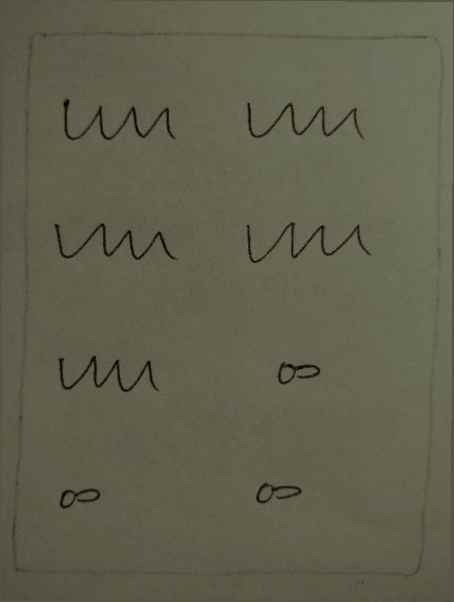switch: (263, 345, 333, 398), (247, 467, 308, 512), (48, 477, 110, 518)
text: (238, 207, 381, 277), (52, 86, 192, 157), (44, 204, 176, 274), (236, 90, 374, 150), (50, 344, 169, 406)
